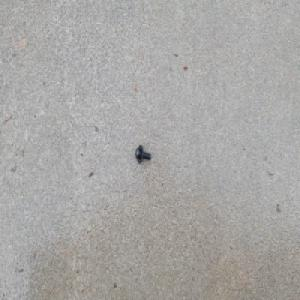BoltWasher: (134, 144, 151, 165)
